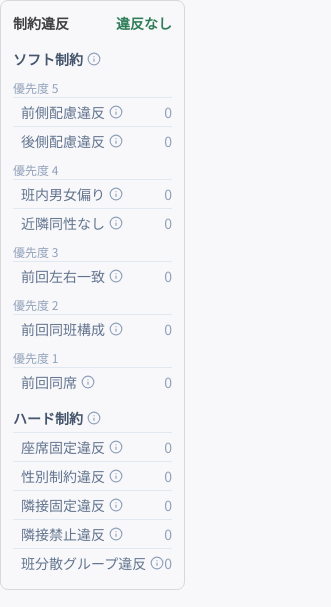
Test: ScoreBreakdownTable ツールチップ › showViolationDetail=true のとき説明ボタンのホバーでツールチップが表示される
Hover over the button named "前側配慮が満たされていない件数" at (116, 112), box [109,105,123,119]
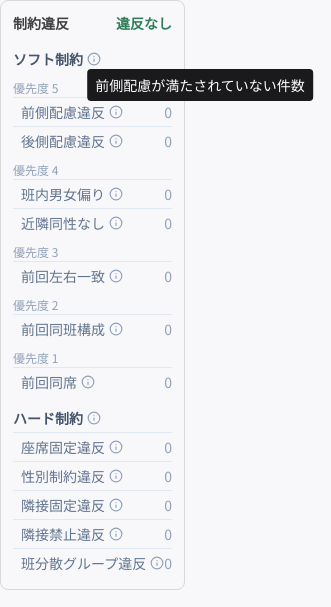
Check: the text "前側配慮が満たされていない件数" is shown, box [95,75,305,95]
